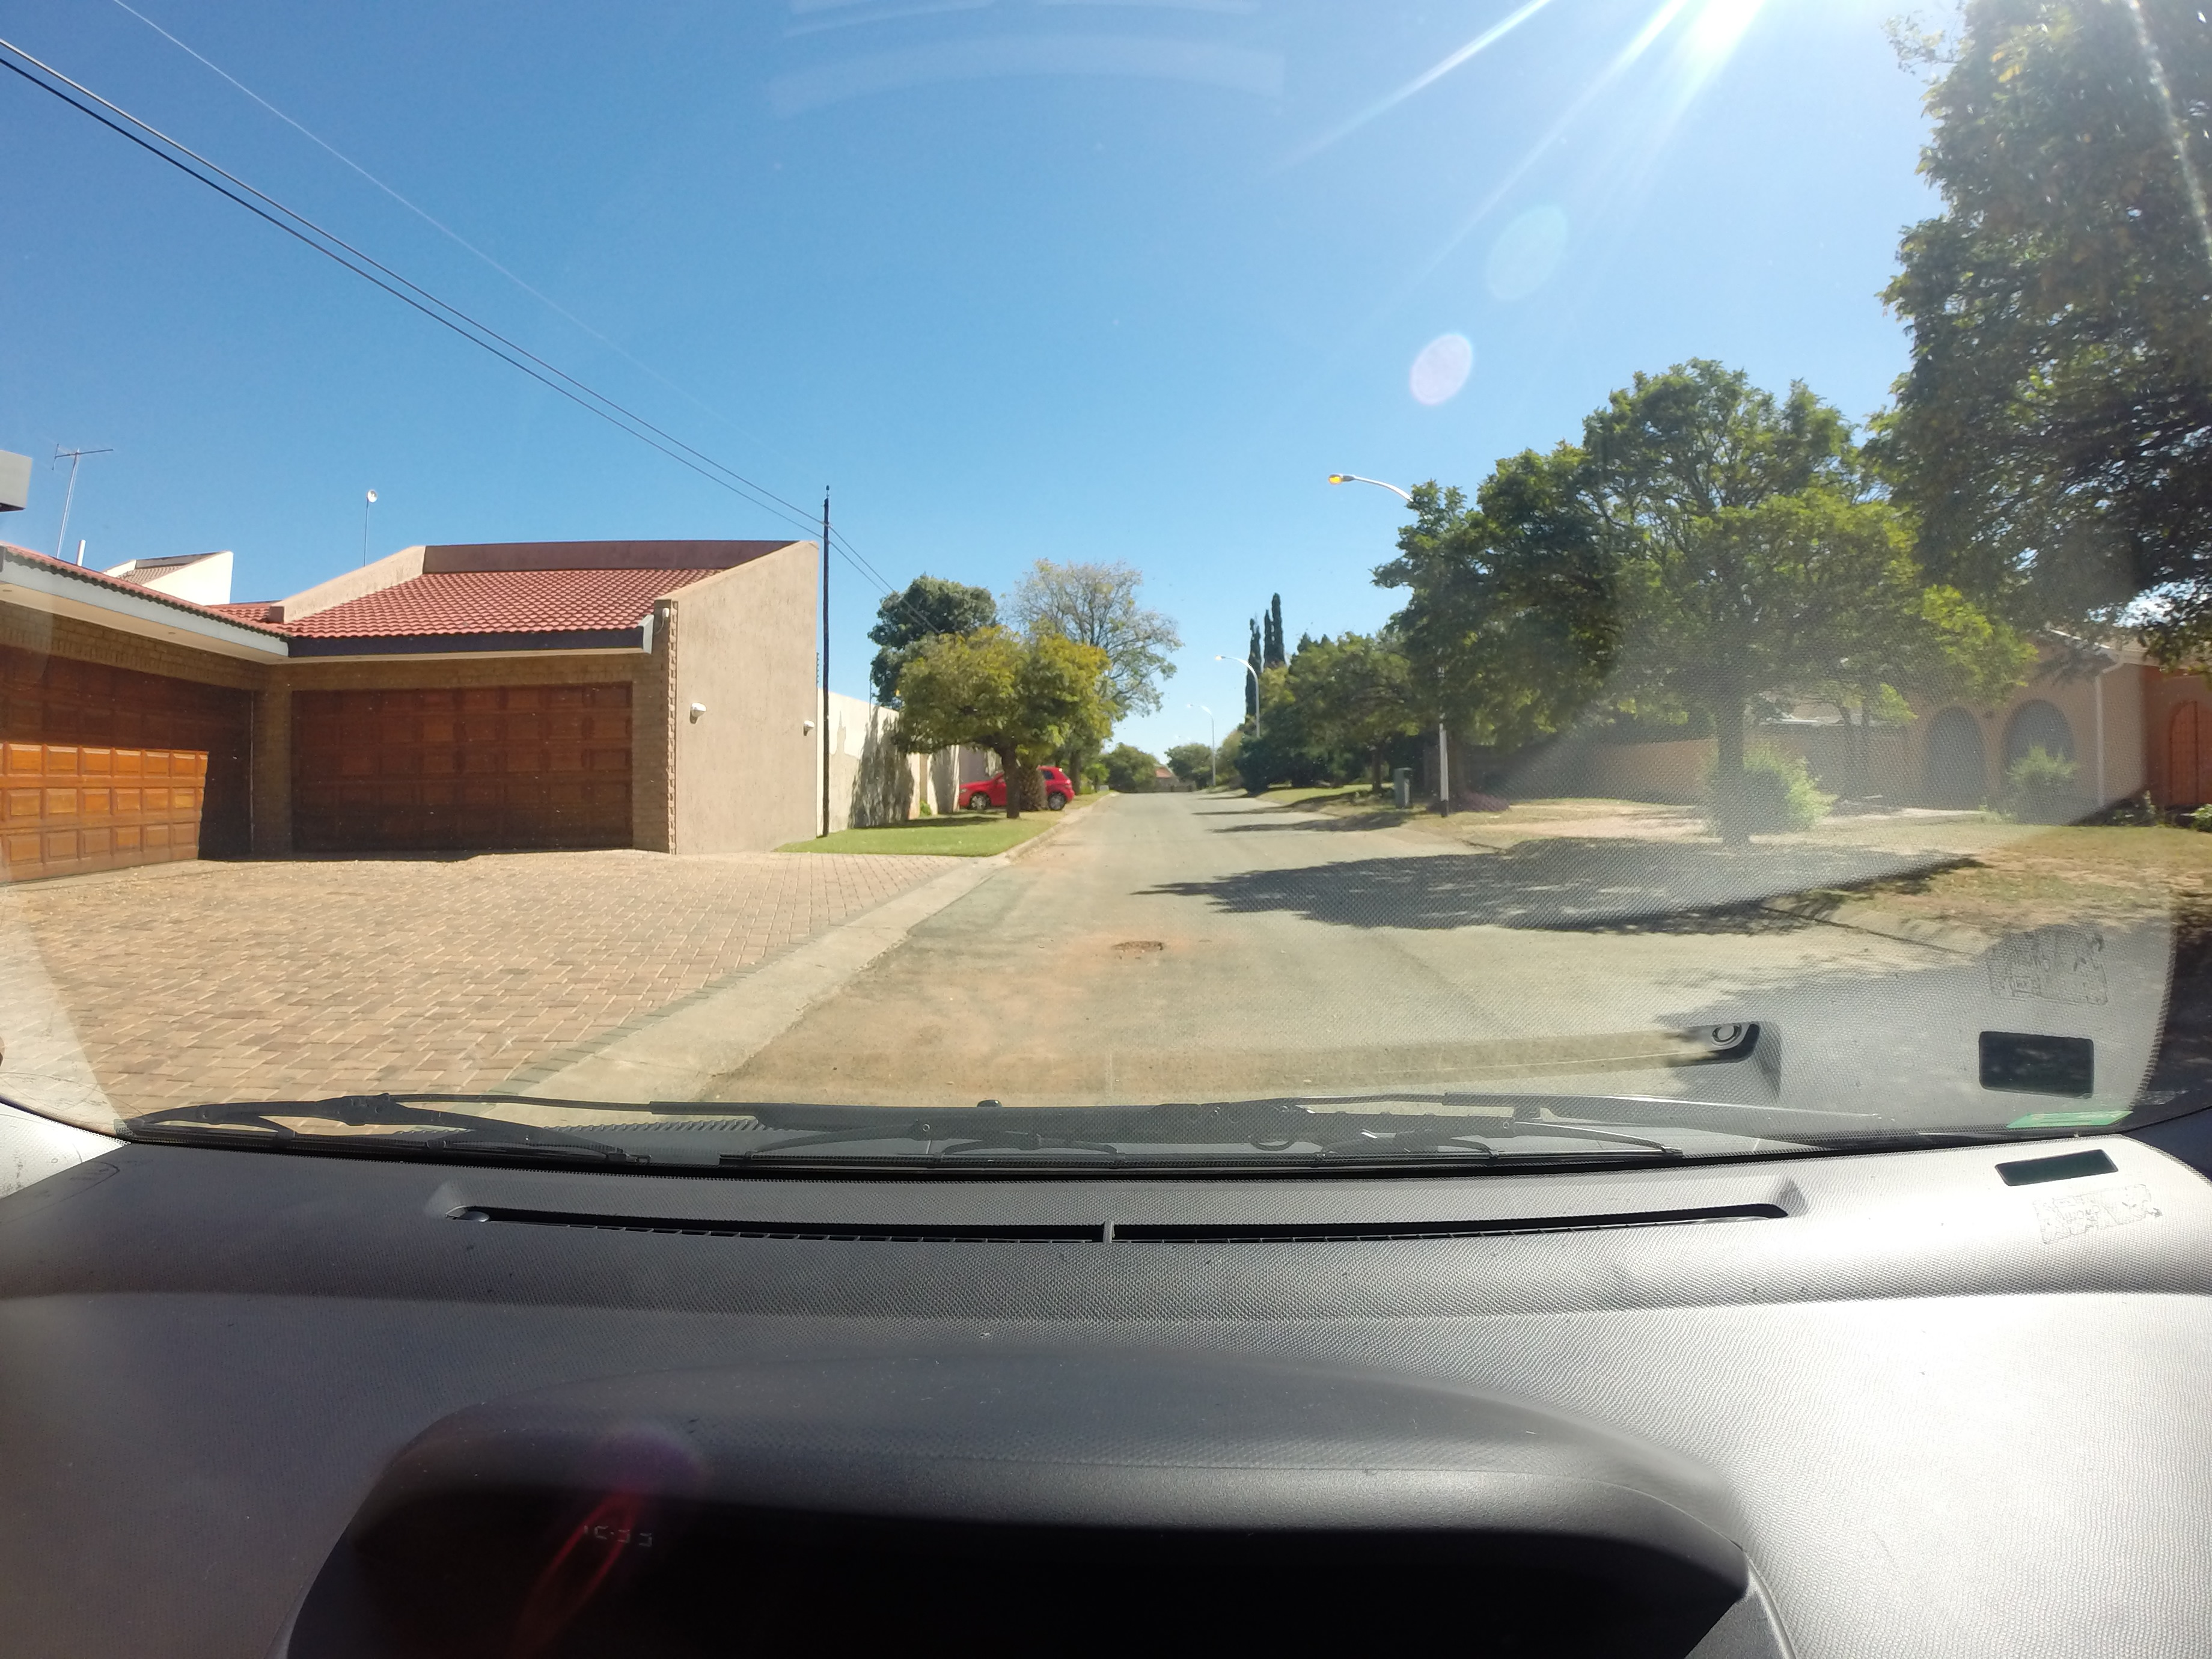pothole: (1120, 922, 1214, 978)
